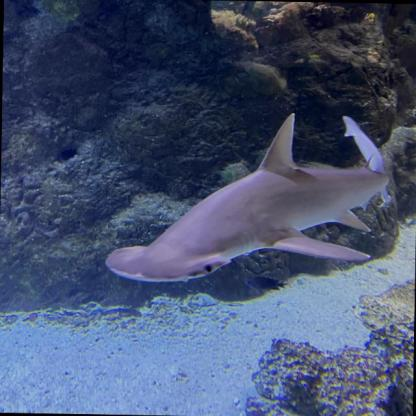shark: (104, 109, 391, 295)
